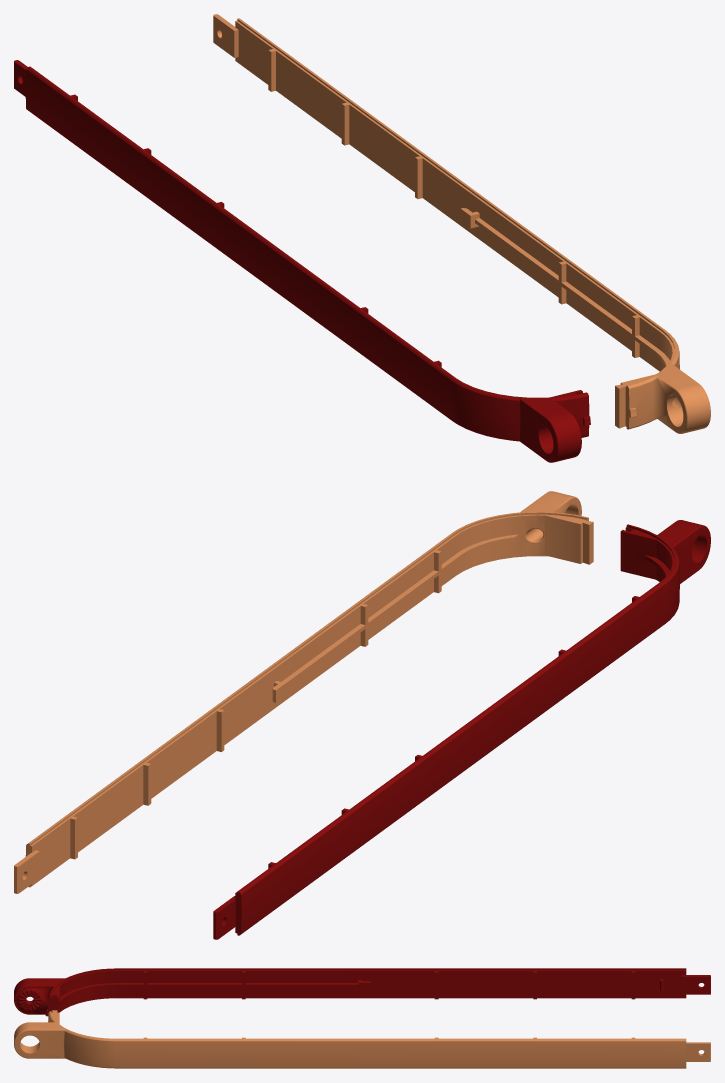
The picture shows the model from 3 angles, top to bottom: view 1: azimuth 30°, elevation 25°; view 2: azimuth 150°, elevation 25°; view 3: azimuth 270°, elevation 25°; orthographic projection. The views are drawn at different scales.
Visible parts, largest first — view 1: _____________ZHI_JIA_XIA_BU_1, _____________ZHI_JIA_XIA_BU_2_1; view 2: _____________ZHI_JIA_XIA_BU_2_1, _____________ZHI_JIA_XIA_BU_1; view 3: _____________ZHI_JIA_XIA_BU_2_1, _____________ZHI_JIA_XIA_BU_1.
Part boxes in pixels (x1,y1,x2,y2): _____________ZHI_JIA_XIA_BU_1: [14, 60, 590, 462]; _____________ZHI_JIA_XIA_BU_2_1: [213, 14, 710, 433]; _____________ZHI_JIA_XIA_BU_2_1: [14, 491, 593, 893]; _____________ZHI_JIA_XIA_BU_1: [213, 520, 710, 939]; _____________ZHI_JIA_XIA_BU_2_1: [14, 1010, 710, 1068]; _____________ZHI_JIA_XIA_BU_1: [14, 968, 710, 1016].
Bounding box in the file's own units: 88.59 × 18.08 × 368.
